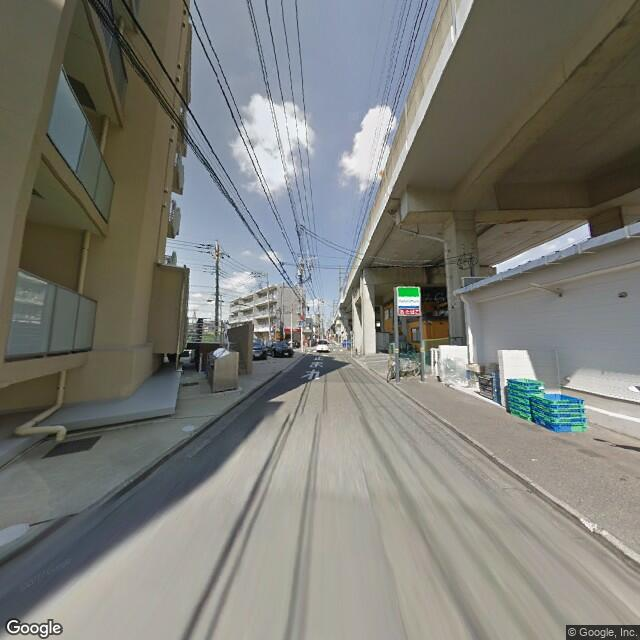family_mart: (394, 283, 422, 314)
